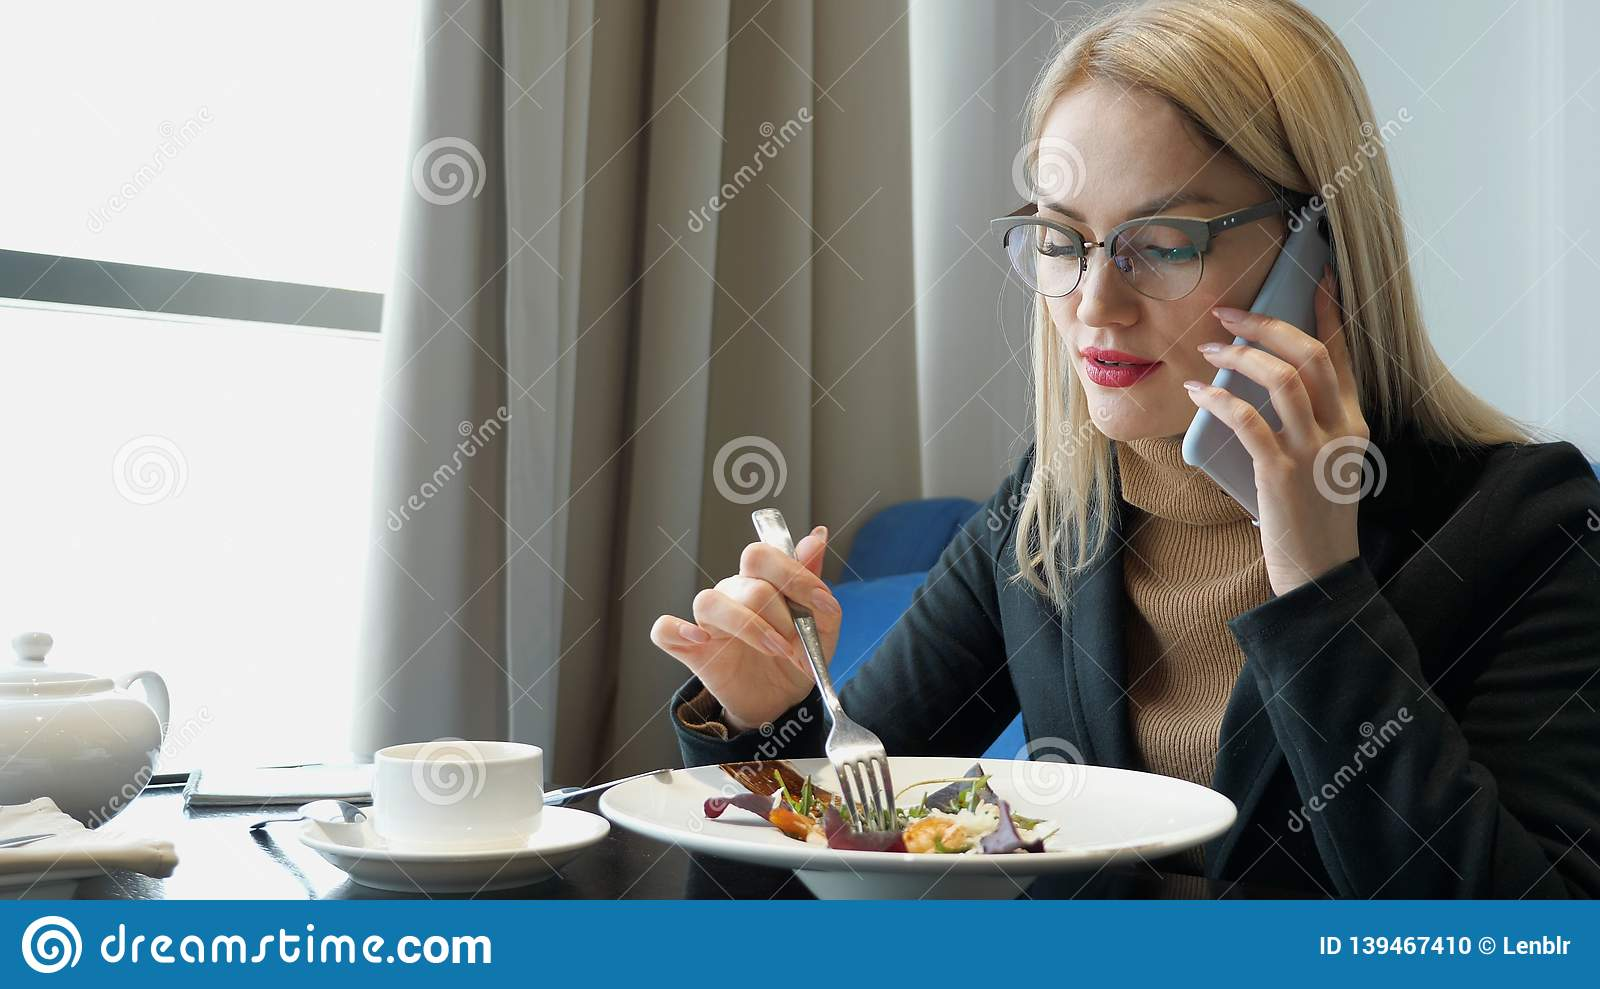phone: (1189, 194, 1358, 544)
talk: (1037, 188, 1370, 583)
